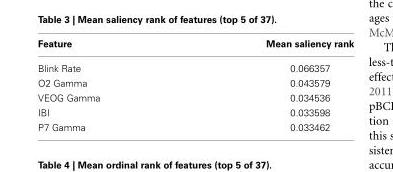table: (37, 37, 353, 132)
table column: (182, 37, 353, 132), (37, 37, 182, 132)
table column header: (37, 37, 353, 55)
table row: (37, 55, 353, 75), (37, 37, 353, 55), (37, 89, 353, 104), (37, 104, 353, 119), (37, 75, 353, 89), (37, 119, 353, 132)
